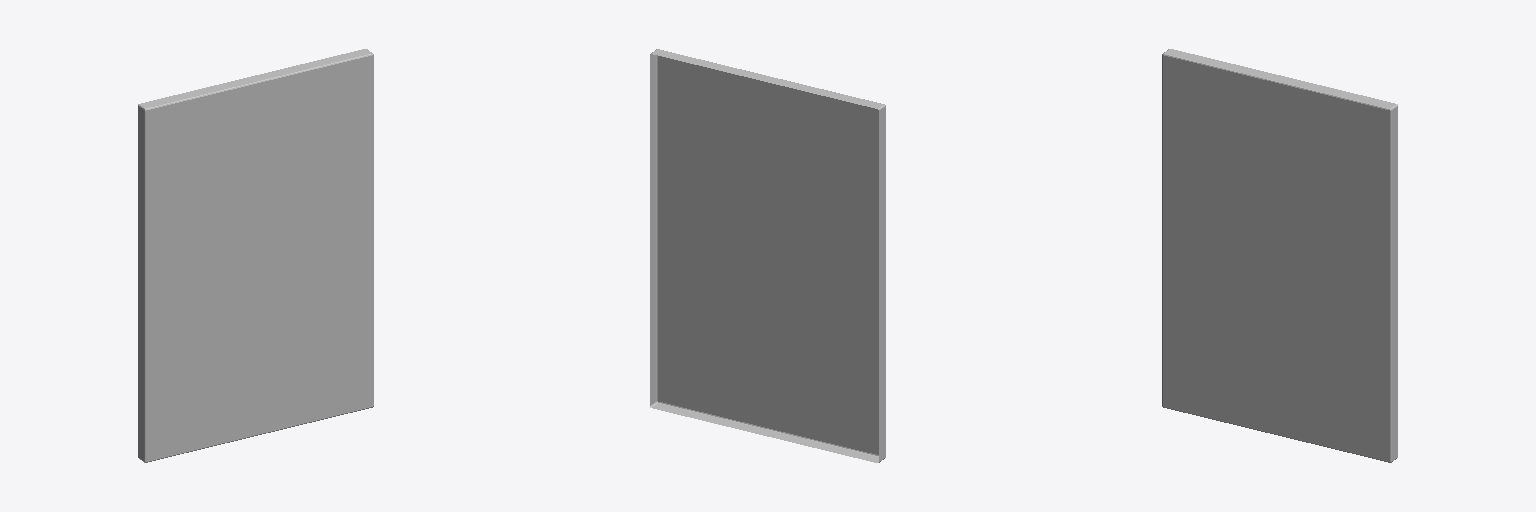
Rendered from Small_Panel.obj.
3 renders of one model, left to right at view 1: azimuth 30°, elevation 25°; view 2: azimuth 150°, elevation 25°; view 3: azimuth 330°, elevation 25°, orthographic.
Visible parts, largest first — view 1: polySurface662 polySurface446; view 2: polySurface662 polySurface446; view 3: polySurface662 polySurface446.
Part boxes in pixels (left/top/right/bottom): polySurface662 polySurface446: left=138, top=49, right=373, bottom=462; polySurface662 polySurface446: left=650, top=49, right=885, bottom=462; polySurface662 polySurface446: left=1162, top=49, right=1397, bottom=462.
Bounding box in the file's own units: 13.77 × 20.33 × 0.7567.